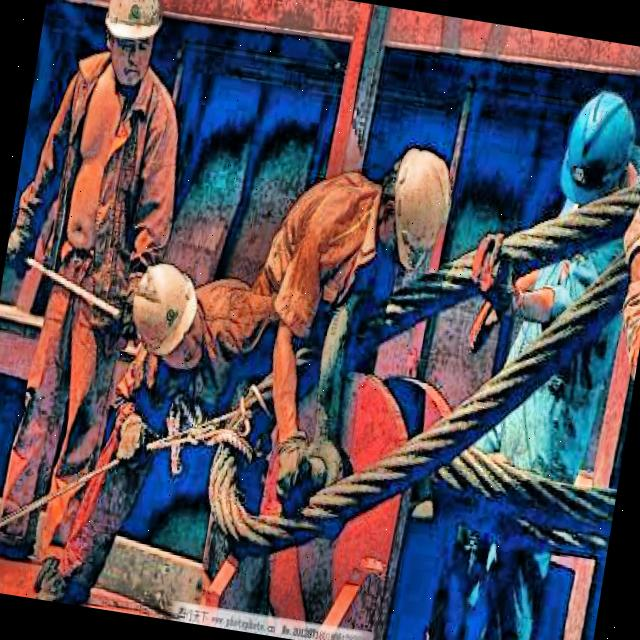helmet: (369, 142, 459, 276), (553, 82, 640, 214), (120, 260, 218, 372), (91, 0, 168, 92)
